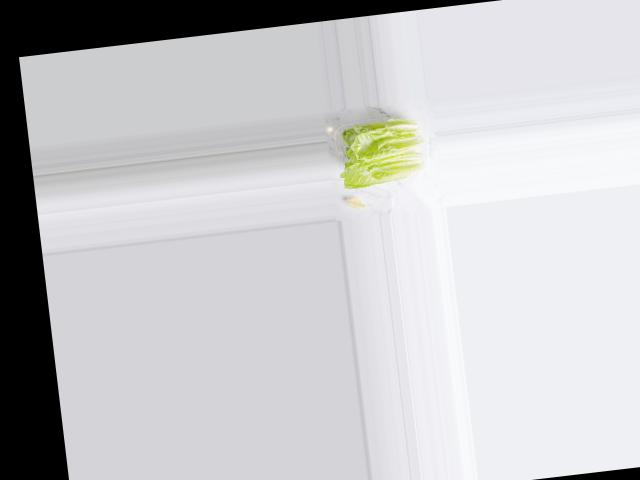lettuce: (333, 112, 428, 193)
